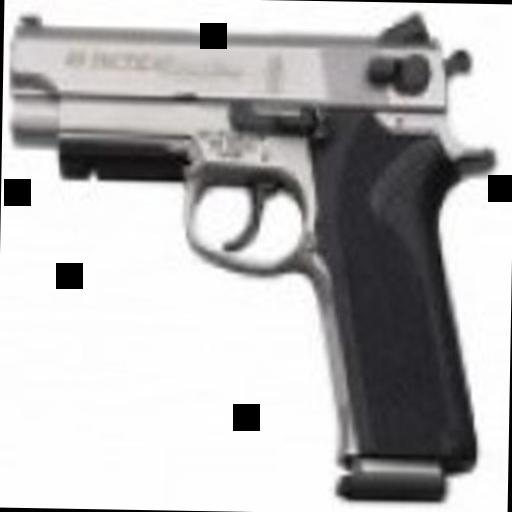Handgun: (6, 3, 486, 506)
